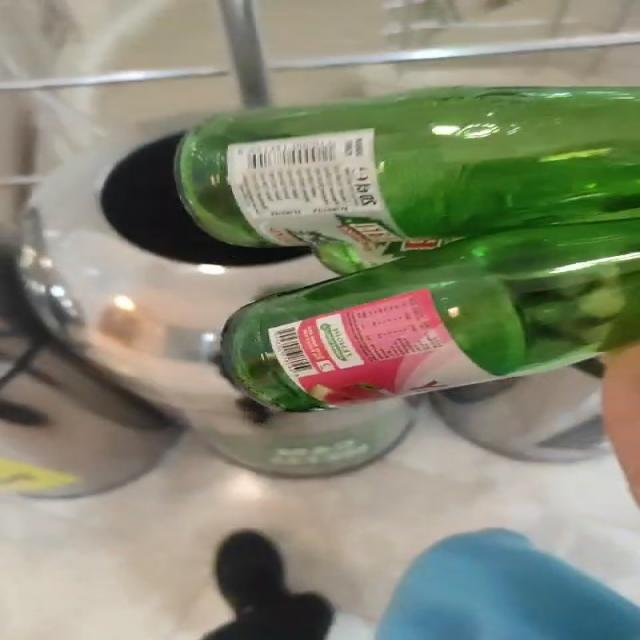glass: (176, 87, 637, 411)
